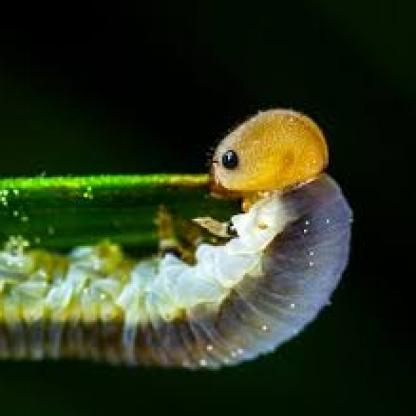sawfly: (0, 105, 363, 374)
